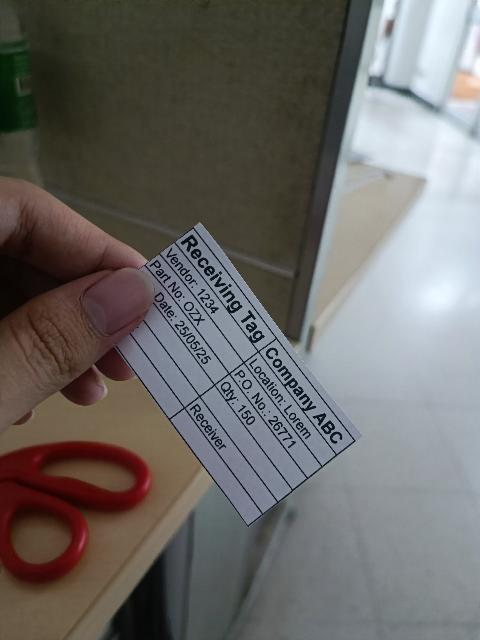PO no: (231, 365, 322, 478)
part no: (145, 255, 244, 375)
qty: (213, 376, 306, 490)
tags: (118, 223, 360, 526)
